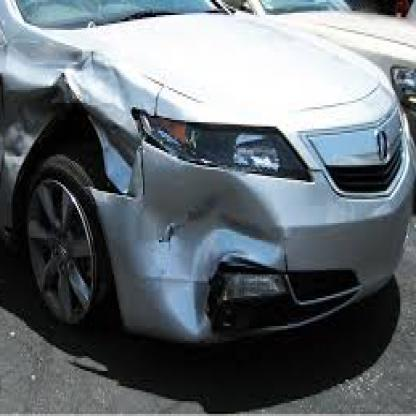dent: (146, 196, 204, 336), (10, 48, 128, 110)
